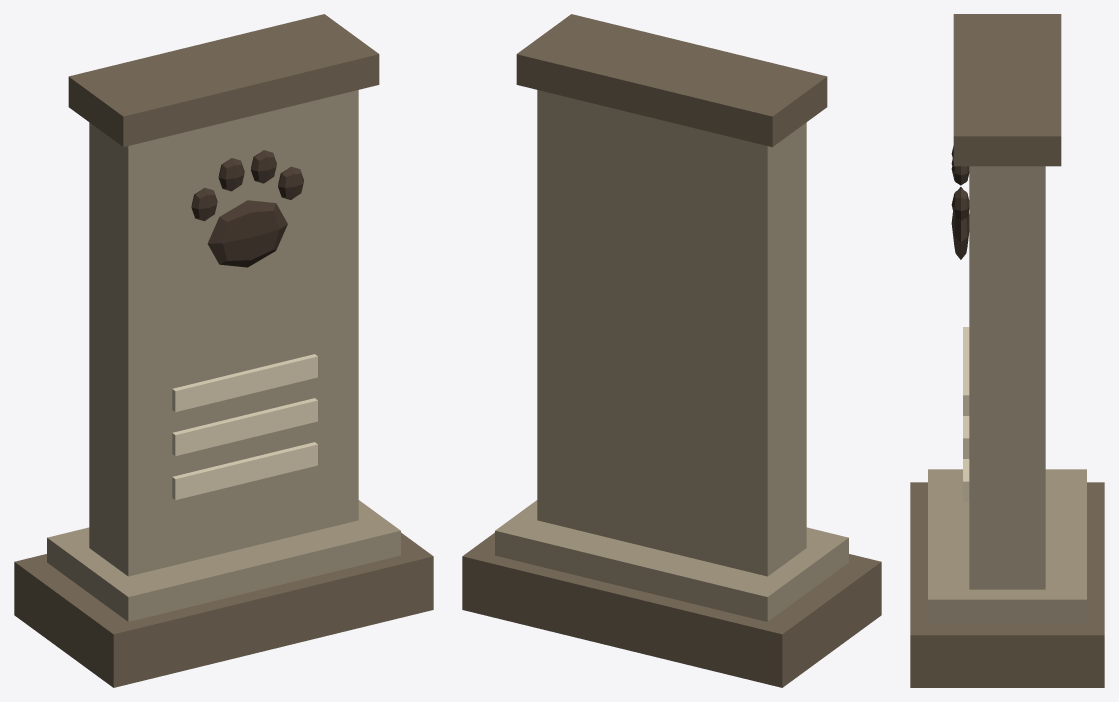
File: 07_Paw_Monument.fbx
3 renders of one model, left to right at view 1: azimuth 30°, elevation 25°; view 2: azimuth 150°, elevation 25°; view 3: azimuth 270°, elevation 25°, orthographic. The views are drawn at different scales.
Visible parts, largest first — view 1: Structure.006; view 2: Structure.006; view 3: Structure.006.
Boxes of the visible parts, x1=… form: Structure.006: x1=14, y1=14, x2=433, y2=687; Structure.006: x1=462, y1=14, x2=881, y2=687; Structure.006: x1=910, y1=14, x2=1104, y2=687.
Bounding box in the file's own units: 175 × 286 × 94.
